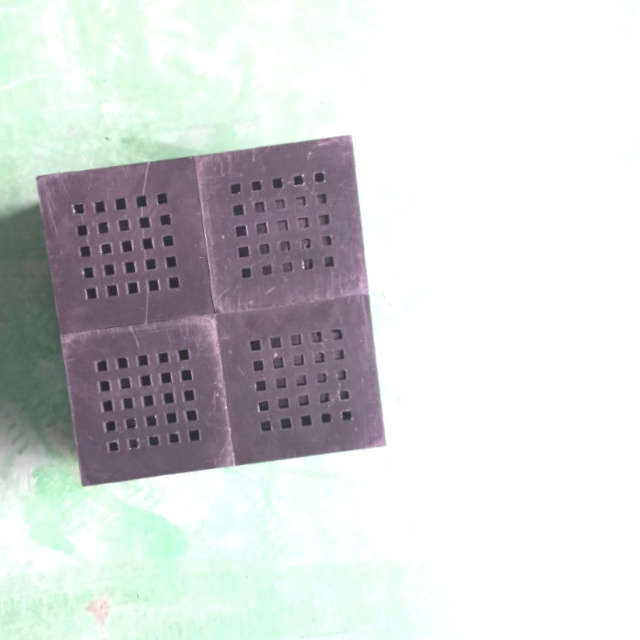pallet: (27, 126, 395, 495)
